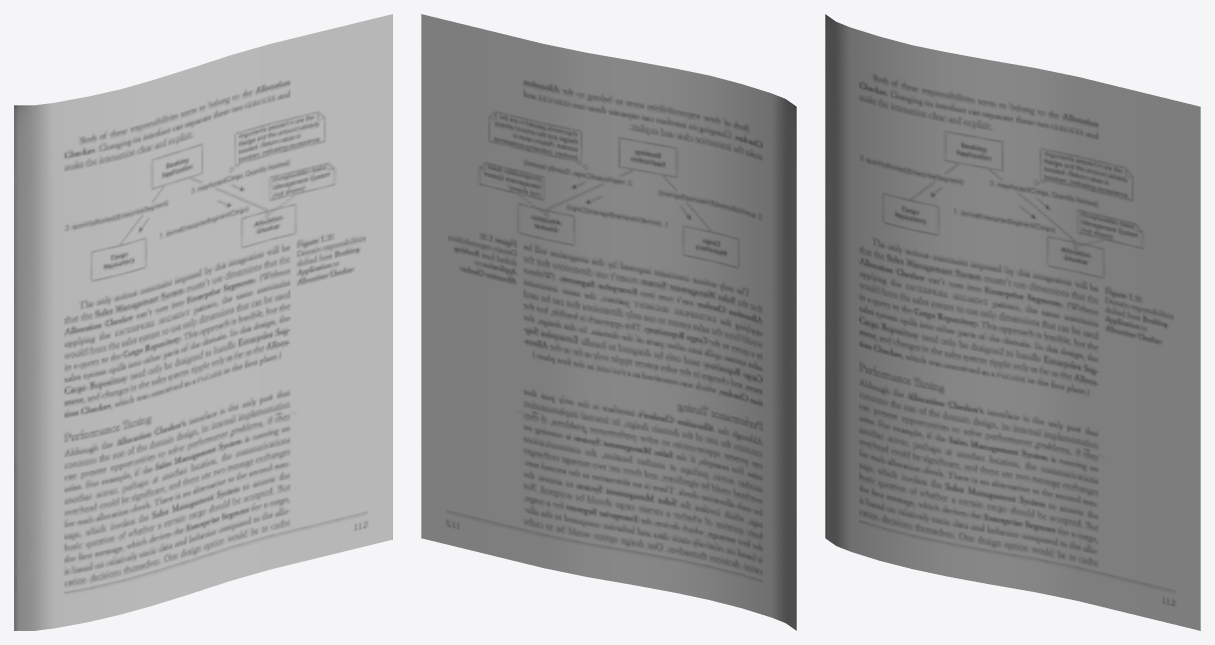
The model's file is MeshBook_11_0_GeomSubset_2.obj.
3 renders of one model, left to right at view 1: azimuth 30°, elevation 25°; view 2: azimuth 150°, elevation 25°; view 3: azimuth 330°, elevation 25°, orthographic.
Visible parts, largest first — view 1: MeshBook_11_0_GeomSubset_2; view 2: MeshBook_11_0_GeomSubset_2; view 3: MeshBook_11_0_GeomSubset_2.
Part boxes in pixels (x1,y1,x2,y2): MeshBook_11_0_GeomSubset_2: (14,14,392,630); MeshBook_11_0_GeomSubset_2: (421,14,796,630); MeshBook_11_0_GeomSubset_2: (825,14,1200,630).
Bounding box in the file's own units: 0.1716 × 0.2281 × 0.00803.
